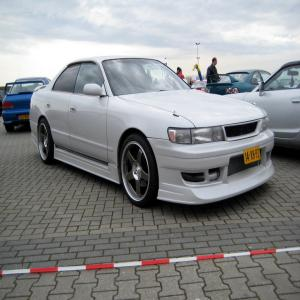Vehicle-registration-plate: (244, 148, 262, 166), (21, 114, 31, 120)
